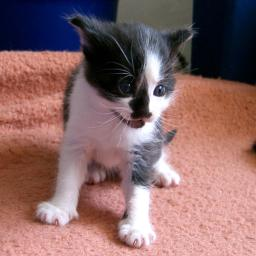catnose: (129, 102, 154, 120)
